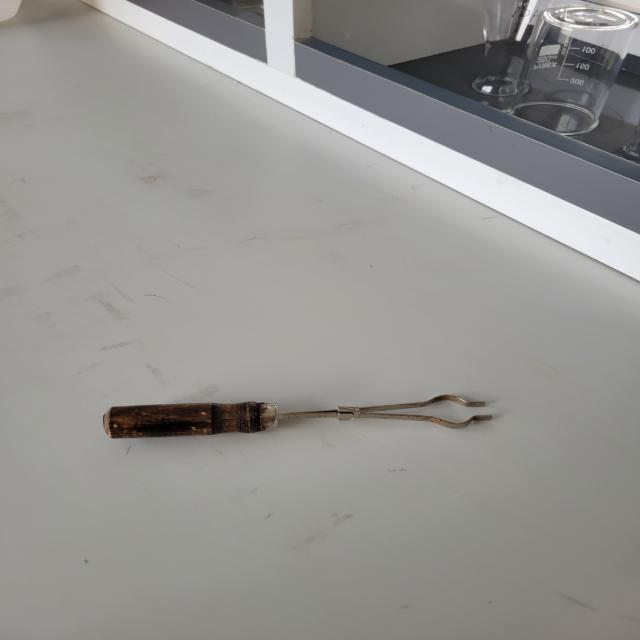TestTube_Holder: (81, 332, 541, 518)
